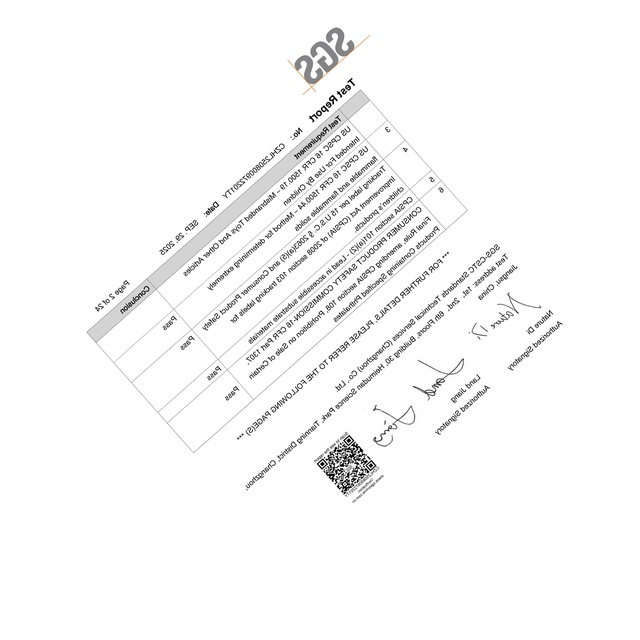sgs: (294, 25, 355, 86)
